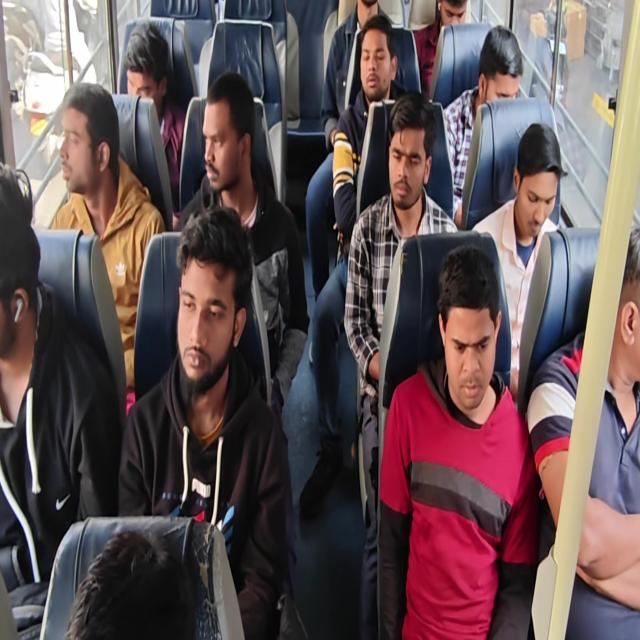person: (176, 214, 255, 404), (67, 527, 191, 640), (436, 246, 505, 419), (54, 82, 126, 206), (0, 162, 39, 381), (601, 224, 640, 403), (198, 75, 258, 191), (514, 121, 562, 232), (385, 98, 430, 210), (479, 27, 525, 110), (126, 22, 166, 104), (362, 19, 391, 102), (436, 0, 469, 31)
